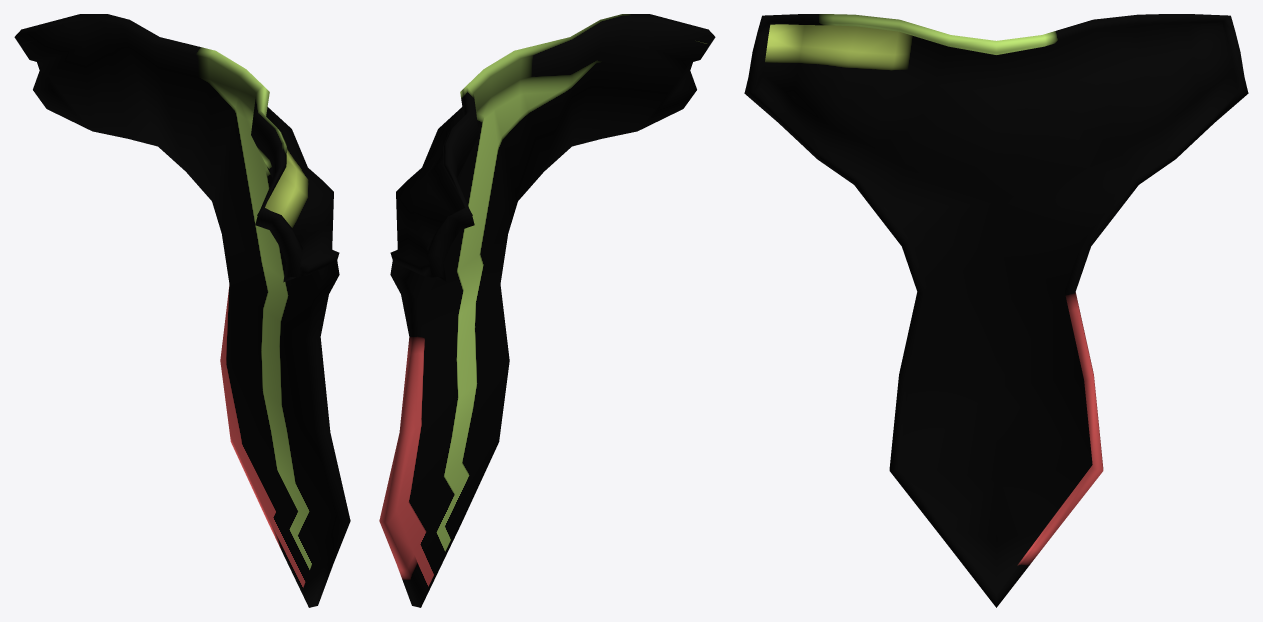
File: ornament2.obj
3 renders of one model, left to right at view 1: azimuth 30°, elevation 25°; view 2: azimuth 150°, elevation 25°; view 3: azimuth 270°, elevation 25°, orthographic. The views are drawn at different scales.
Parts seen in each view (by area): view 1: LowPoly_Warlock.002_Plane.002; view 2: LowPoly_Warlock.002_Plane.002; view 3: LowPoly_Warlock.002_Plane.002.
Part boxes in pixels (bbox=[...]): LowPoly_Warlock.002_Plane.002: bbox=[14, 14, 350, 607]; LowPoly_Warlock.002_Plane.002: bbox=[379, 14, 715, 607]; LowPoly_Warlock.002_Plane.002: bbox=[744, 14, 1248, 607].
Bounding box in the file's own units: 0.1538 × 0.4526 × 0.3833.
